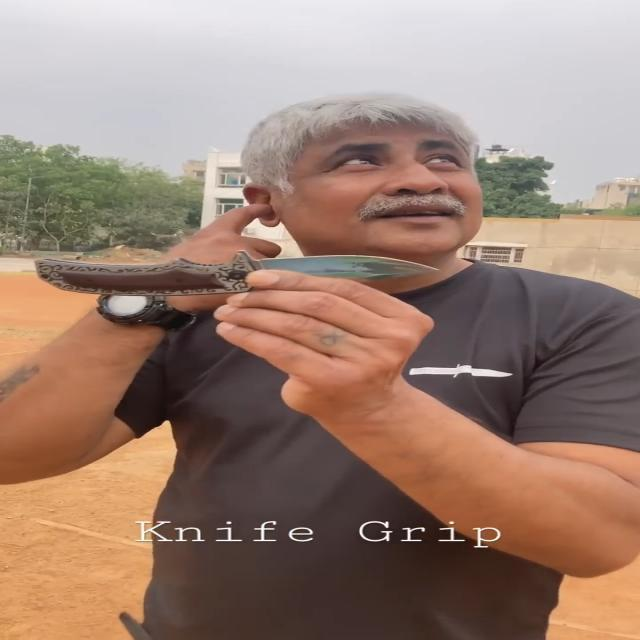Knife: (44, 252, 449, 298)
